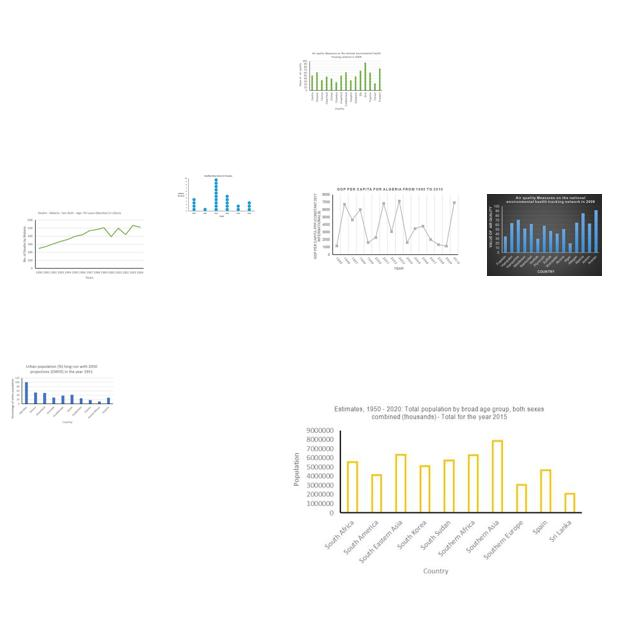Graph: (291, 403, 588, 579), (311, 185, 461, 271), (487, 194, 602, 276), (20, 210, 146, 281), (8, 363, 115, 425), (297, 50, 384, 111), (175, 172, 257, 220)
